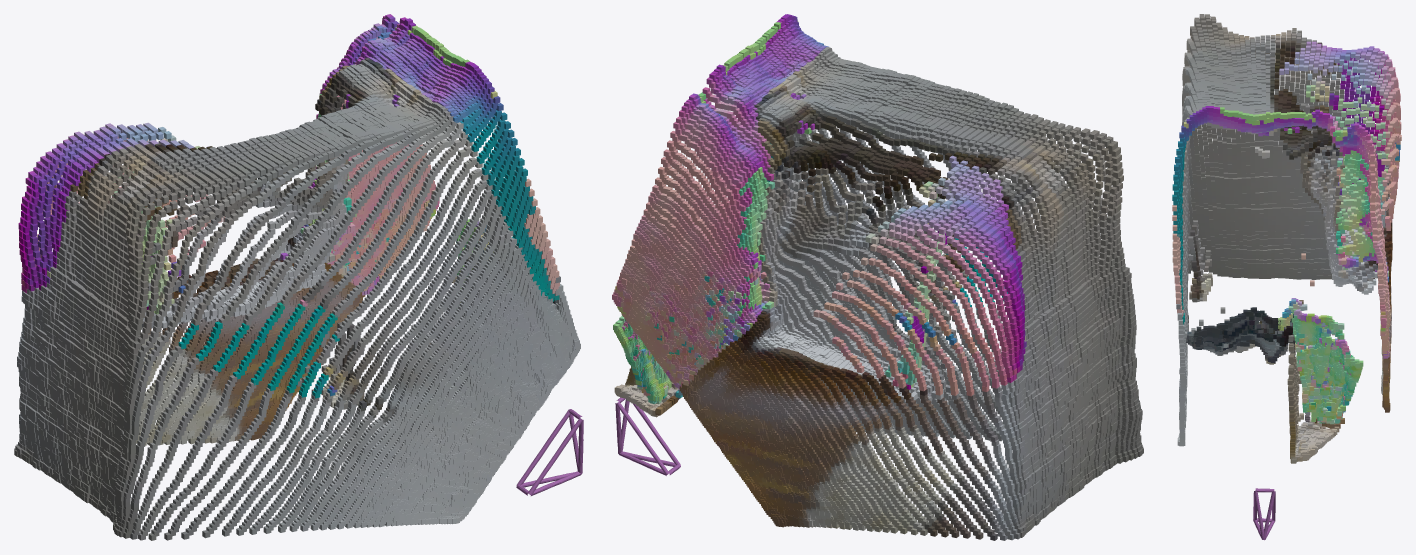
The model's file is pred_3-compressed.glb.
The picture shows the model from 3 angles, left to right: view 1: azimuth 30°, elevation 25°; view 2: azimuth 150°, elevation 25°; view 3: azimuth 270°, elevation 25°; orthographic projection. The views are drawn at different scales.
Bounding box in the file's own units: 5.1 × 4.55 × 2.47.
